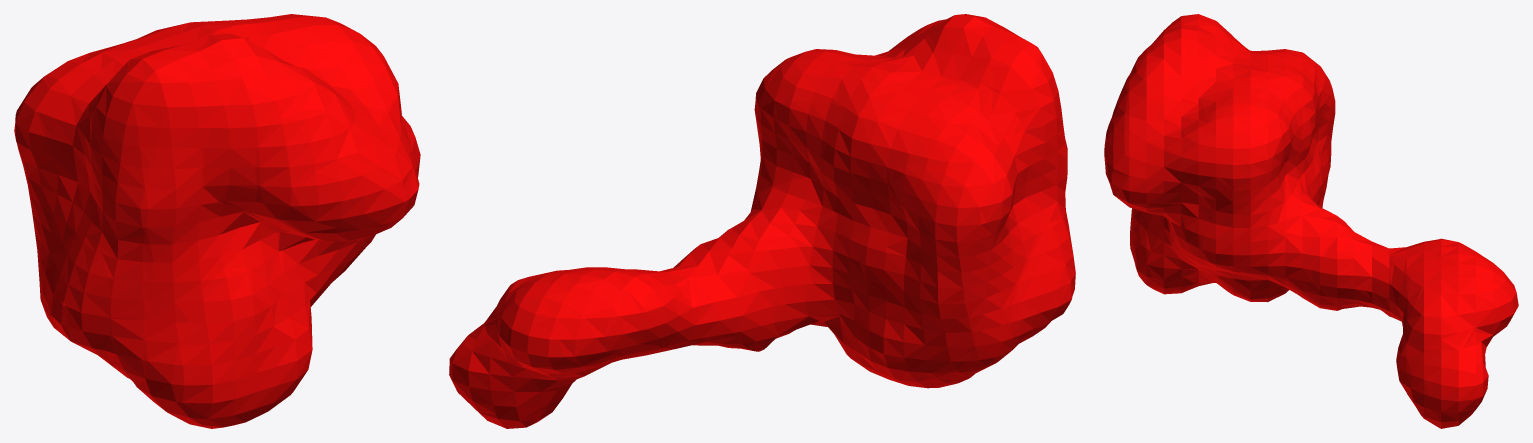
The model's file is gatB_coarse.dae.
The picture shows the model from 3 angles, left to right: view 1: azimuth 30°, elevation 25°; view 2: azimuth 150°, elevation 25°; view 3: azimuth 270°, elevation 25°; orthographic projection. The views are drawn at different scales.
Parts seen in each view (by area): view 1: gatB; view 2: gatB; view 3: gatB.
Boxes of the visible parts, bbox=[...] form: gatB: bbox=[14, 14, 420, 428]; gatB: bbox=[449, 14, 1075, 428]; gatB: bbox=[1104, 14, 1518, 428].
Size of the model in its own units: 55.99 by 41.36 by 54.87.
